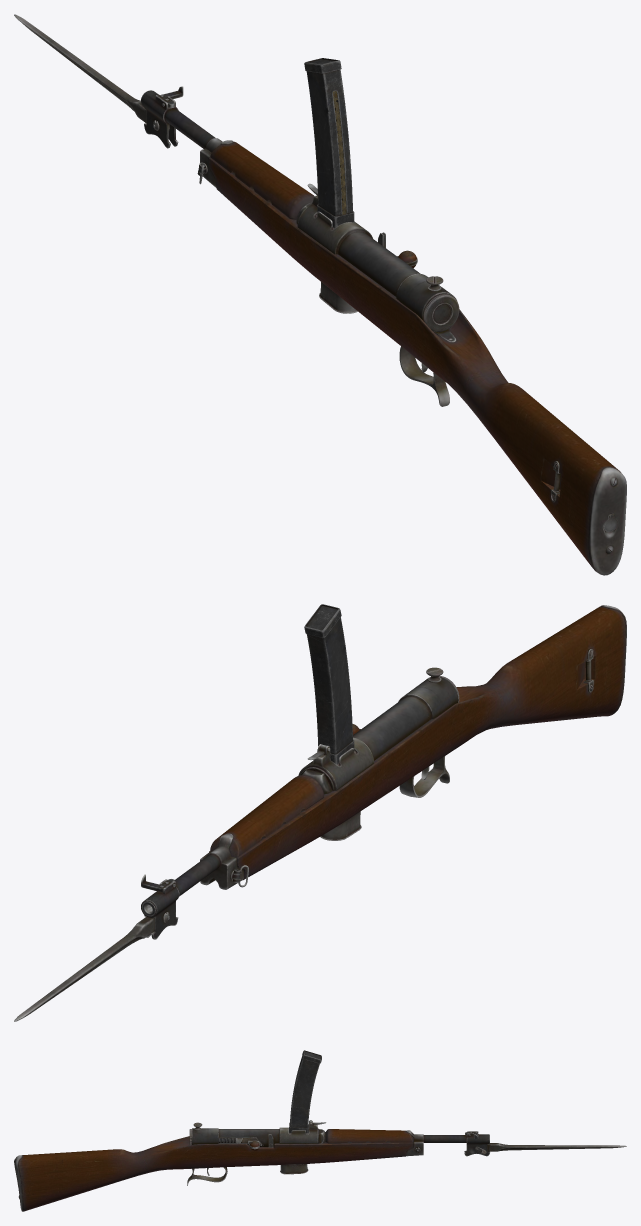
Rendered from auto1918.glb.
3 renders of one model, top to bottom at view 1: azimuth 30°, elevation 25°; view 2: azimuth 150°, elevation 25°; view 3: azimuth 270°, elevation 25°, orthographic. The views are drawn at different scales.
Visible parts, largest first — view 1: Object_4, Object_2, Object_3; view 2: Object_4, Object_2, Object_3; view 3: Object_4, Object_2, Object_3.
Part boxes in pixels (left/top/right/bottom): Object_4: left=141, top=86, right=626, bottom=575; Object_2: left=304, top=58, right=354, bottom=228; Object_3: left=14, top=14, right=417, bottom=268; Object_4: left=141, top=605, right=626, bottom=939; Object_2: left=304, top=604, right=354, bottom=764; Object_3: left=14, top=724, right=360, bottom=1021; Object_4: left=14, top=1120, right=490, bottom=1211; Object_2: left=289, top=1050, right=321, bottom=1133; Object_3: left=236, top=1137, right=626, bottom=1154.
Bounding box in the file's own units: 0.0674 × 0.3301 × 1.16.
2 materials, 2 textured.
